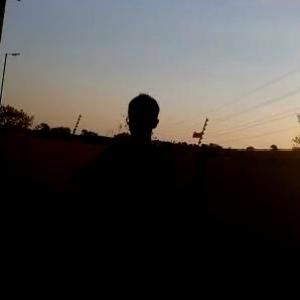follow: (68, 86, 179, 299)
